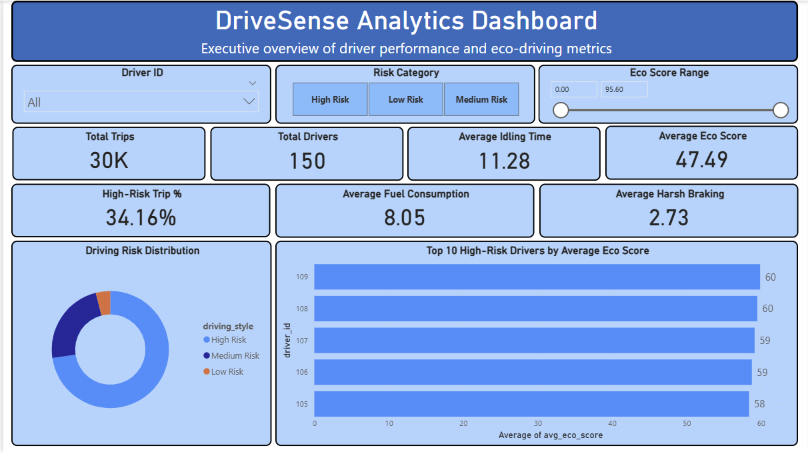

Layout of this report page (visuals, bound fields, positions):
{"tool":"powerbi","page":{"name":"Executive Dashboard","canvas":[1280,720],"ordinal":0},"visuals":[{"type":"card","title":"Total Drivers","fields":{"Values":["CountNonNull(public agg_driver_summary.driver_id)"]},"box":[329,200.4,307,85.9],"z":0},{"type":"card","title":"Average Eco Score","fields":{"Values":["Avg(public agg_driver_summary.avg_eco_score)"]},"box":[957.5,198.8,307,85.9],"z":1000},{"type":"card","title":"Average Fuel Consumption","fields":{"Values":["Avg(public agg_driver_summary.avg_fuel_consumption)"]},"box":[432,291,412,85.9],"z":2000},{"type":"card","title":"Average Harsh Braking","fields":{"Values":["Avg(public agg_driver_summary.avg_harsh_braking)"]},"box":[853,291,412,85.9],"z":3000},{"type":"textbox","title":"DriveSense Analytics Dashboard","box":[13,0,1251.7,97.2],"z":4000},{"type":"card","title":"Average Idling Time","fields":{"Values":["Avg(public agg_driver_summary.avg_idling_time)"]},"box":[643,200.4,307,85.9],"z":5000},{"type":"card","title":"Total Trips","fields":{"Values":["Sum(public agg_driver_summary.total_trips)"]},"box":[14,201,307,85],"z":6000},{"type":"slicer","title":"Driver ID","fields":{"Values":["public agg_driver_summary.driver_id"]},"box":[13,102,413,94],"z":7000},{"type":"slicer","title":"Risk Category","fields":{"Values":["public agg_driver_summary.driving_style"]},"box":[432,102,413,94],"z":8000},{"type":"slicer","title":"Eco Score Range","fields":{"Values":["public agg_driver_summary.avg_eco_score"]},"box":[851.7,101.7,413.3,94],"z":9000},{"type":"card","title":"High-Risk Trip %","fields":{"Values":["public agg_driver_summary.High Risk Trip %"]},"box":[12.7,291.1,412,85],"z":10000},{"type":"donutChart","title":"Driving Risk Distribution","fields":{"Category":["public agg_driver_summary.driving_style"],"Y":["CountNonNull(public stg_eco_driving.trip_id)"]},"box":[13.2,381.7,413.9,326.9],"z":11000},{"type":"clusteredBarChart","title":"Top 10 High-Risk Drivers by Average Eco Score","fields":{"Category":["public agg_driver_summary.driver_id"],"Y":["Avg(public agg_driver_summary.avg_eco_score)"]},"box":[432.8,381.7,831.5,326.9],"z":12000}]}

Visuals, with their boxes in screenshot pixels (x1, y1, x2, y2), scaled from the page's 1280x720 canvas onto the 808x453 screenshot:
"Total Drivers" card: region(208, 126, 401, 180)
"Average Eco Score" card: region(604, 125, 798, 179)
"Average Fuel Consumption" card: region(273, 183, 533, 237)
"Average Harsh Braking" card: region(538, 183, 799, 237)
"DriveSense Analytics Dashboard" textbox: region(8, 0, 798, 61)
"Average Idling Time" card: region(406, 126, 600, 180)
"Total Trips" card: region(9, 126, 203, 180)
"Driver ID" slicer: region(8, 64, 269, 123)
"Risk Category" slicer: region(273, 64, 533, 123)
"Eco Score Range" slicer: region(538, 64, 799, 123)
"High-Risk Trip %" card: region(8, 183, 268, 237)
"Driving Risk Distribution" donutChart: region(8, 240, 270, 446)
"Top 10 High-Risk Drivers by Average Eco Score" clusteredBarChart: region(273, 240, 798, 446)
